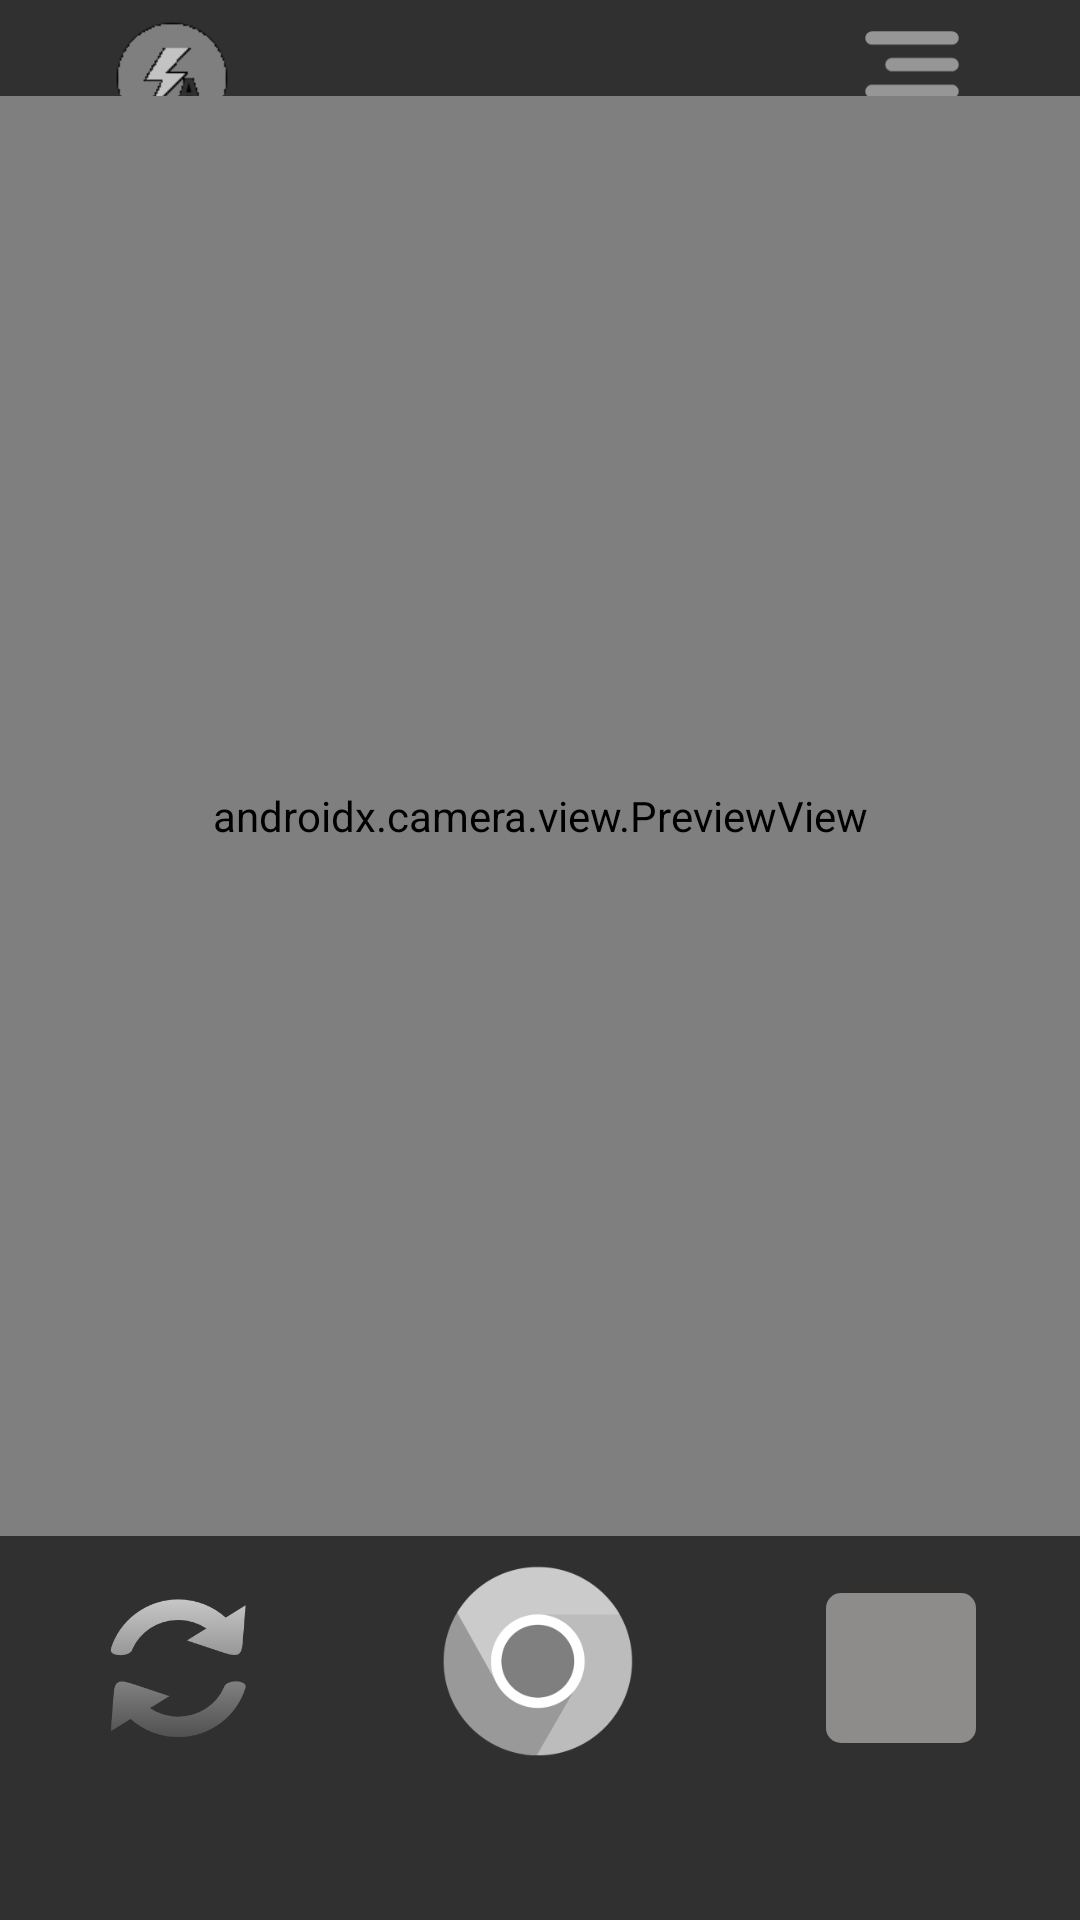

Point at icon controls on the screen. Image size 1080px x 1920px, points as [x,y].
flash auto: [172,78]
moreset: [912,78]
shiftcamera: [178,1668]
